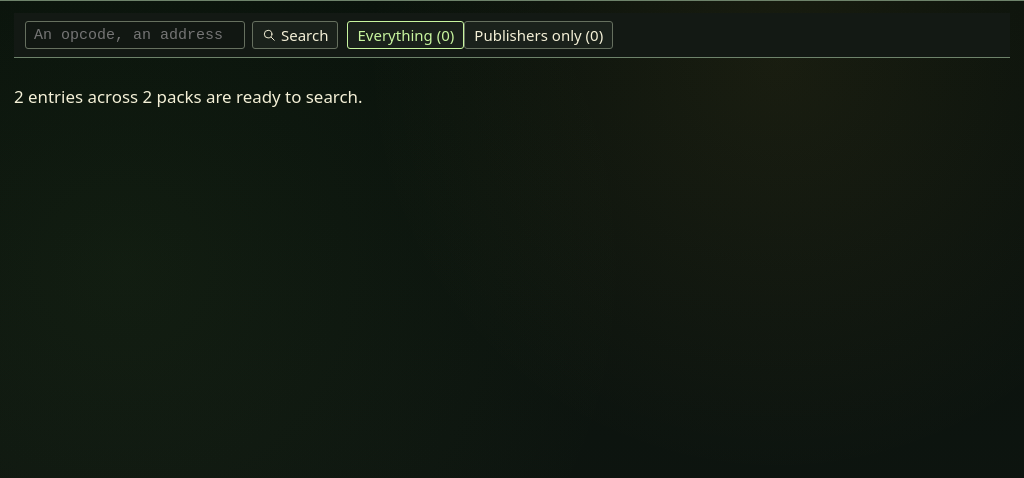
Test case: history and bookmarks › keeps recent searches and re-runs one when it is chosen
In the search field named "Search imported documentation": (135, 35) [25, 21, 245, 49], type "OSWRCH"
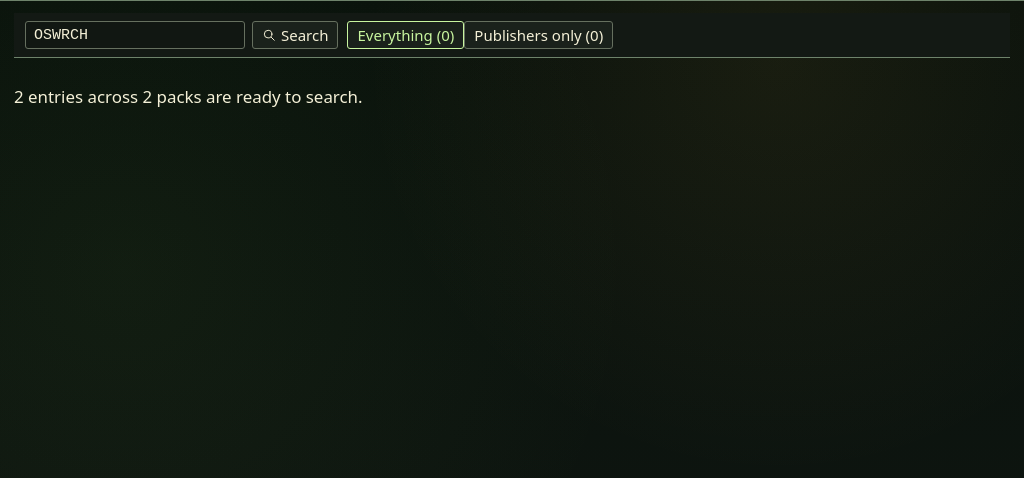
Submit the form, box [25, 21, 338, 49]
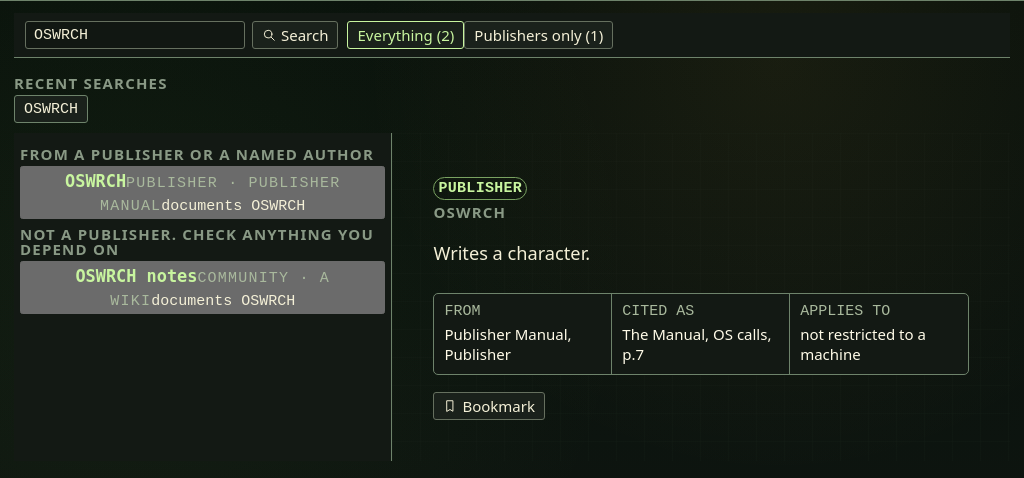
Replace the text in the search field named "Search imported documentation" with "nothing": (135, 35) [25, 21, 245, 49]
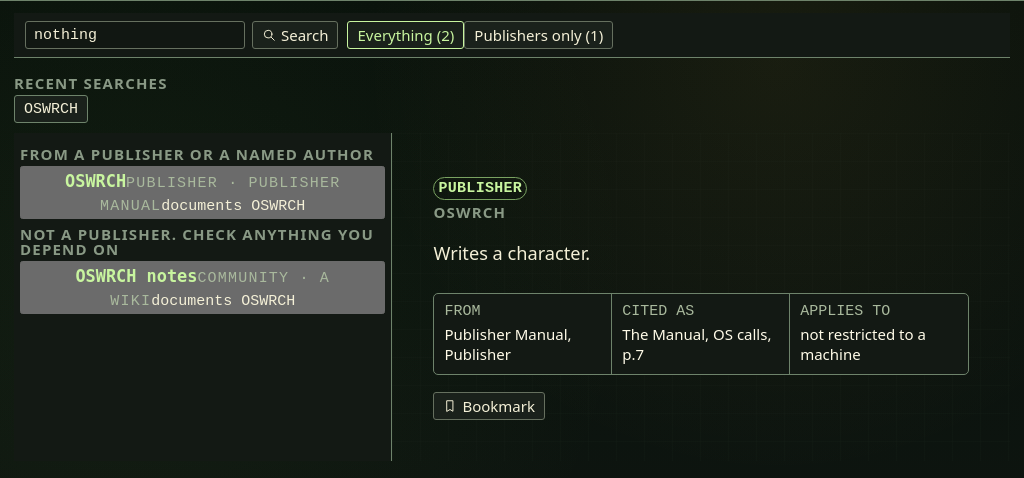
Submit the form, box [25, 21, 338, 49]
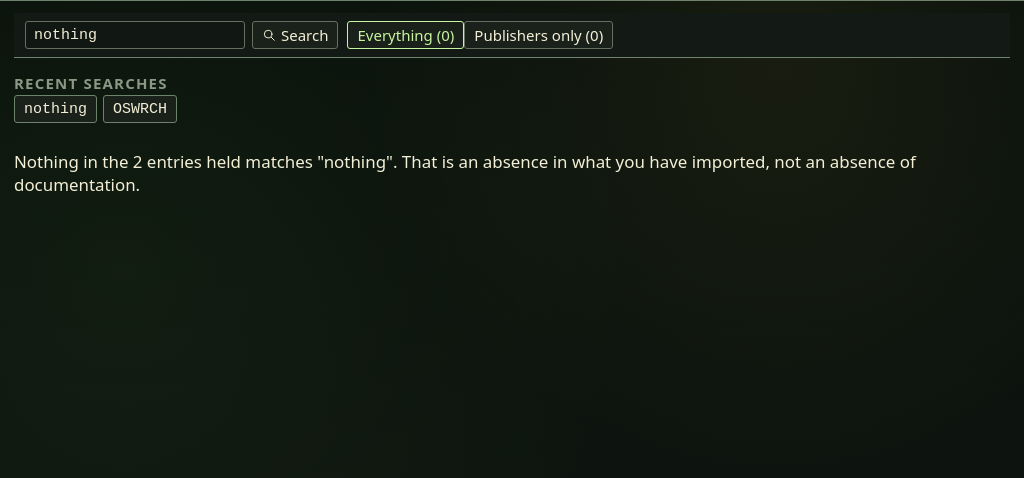
Expected: the button "OSWRCH" is shown
Click the button "OSWRCH": (140, 109) [103, 95, 177, 123]
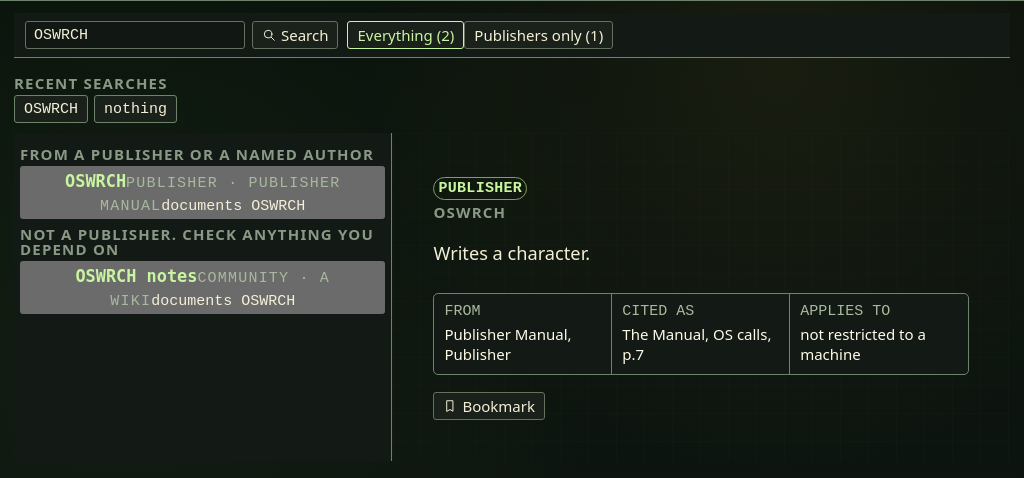
Expected: the list named "From a publisher" is shown, [20, 166, 386, 219]
